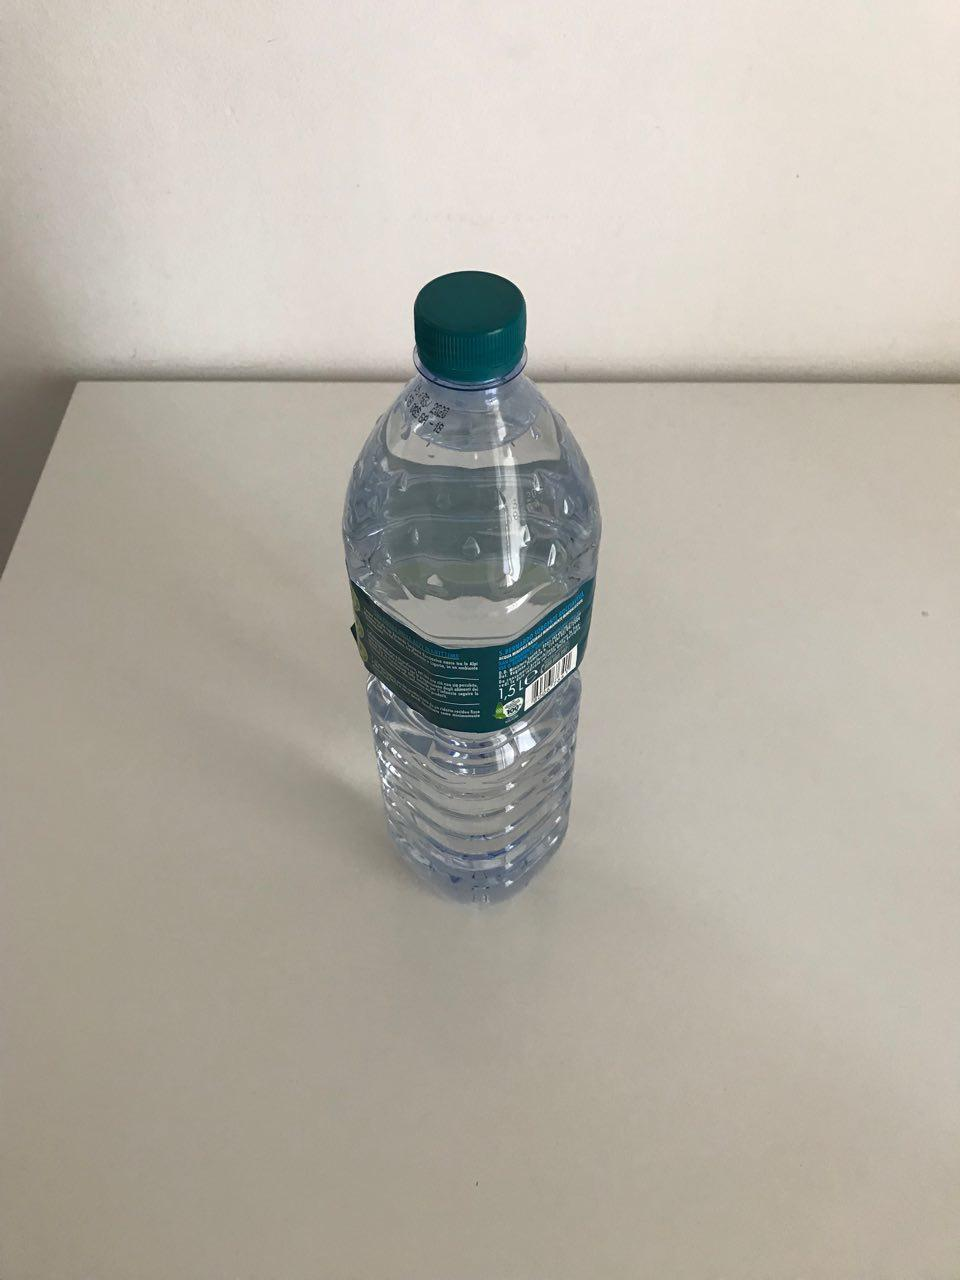san_bernardo: (340, 269, 604, 912)
